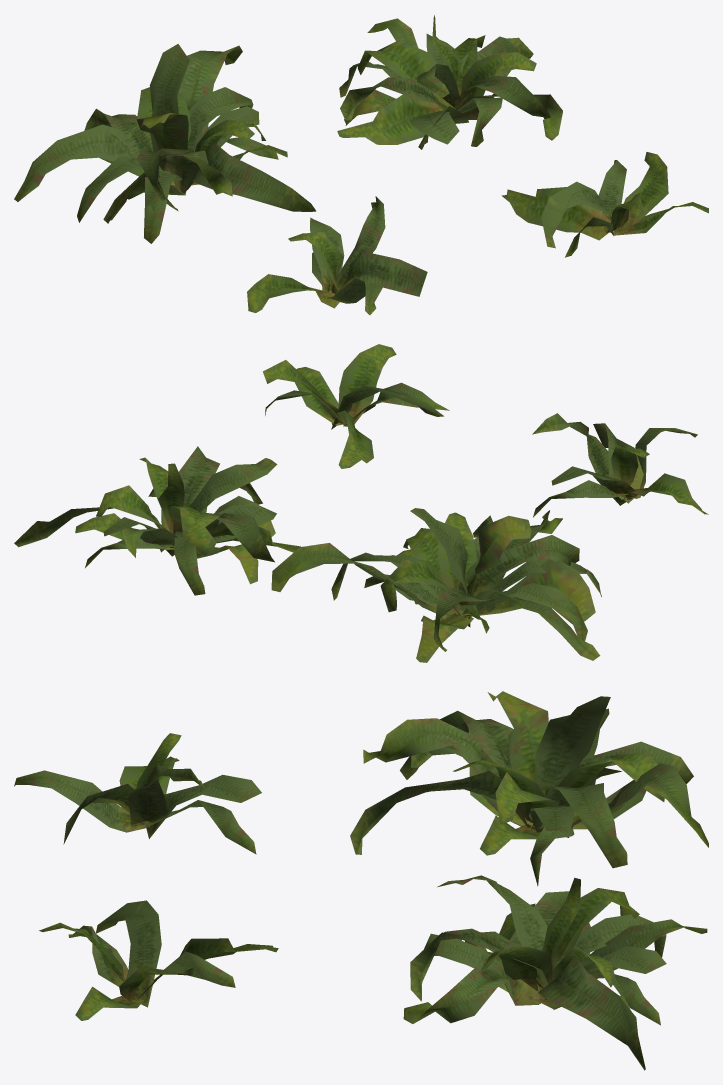
File: fern.glb
3 views of the same model, one above another, from view 1: azimuth 30°, elevation 25°; view 2: azimuth 150°, elevation 25°; view 3: azimuth 270°, elevation 25° (orthographic). The views are drawn at different scales.
Parts seen in each view (by area): view 1: fern_02_b; view 2: fern_02_b; view 3: fern_02_b.
Boxes of the visible parts, x1,y1,x2,y2 form: fern_02_b: (14,15,708,314); fern_02_b: (14,344,708,662); fern_02_b: (14,691,708,1070).
Bounding box in the file's own units: 1.97 × 0.4277 × 1.72.
Materials: 1 (1 with a texture image).
